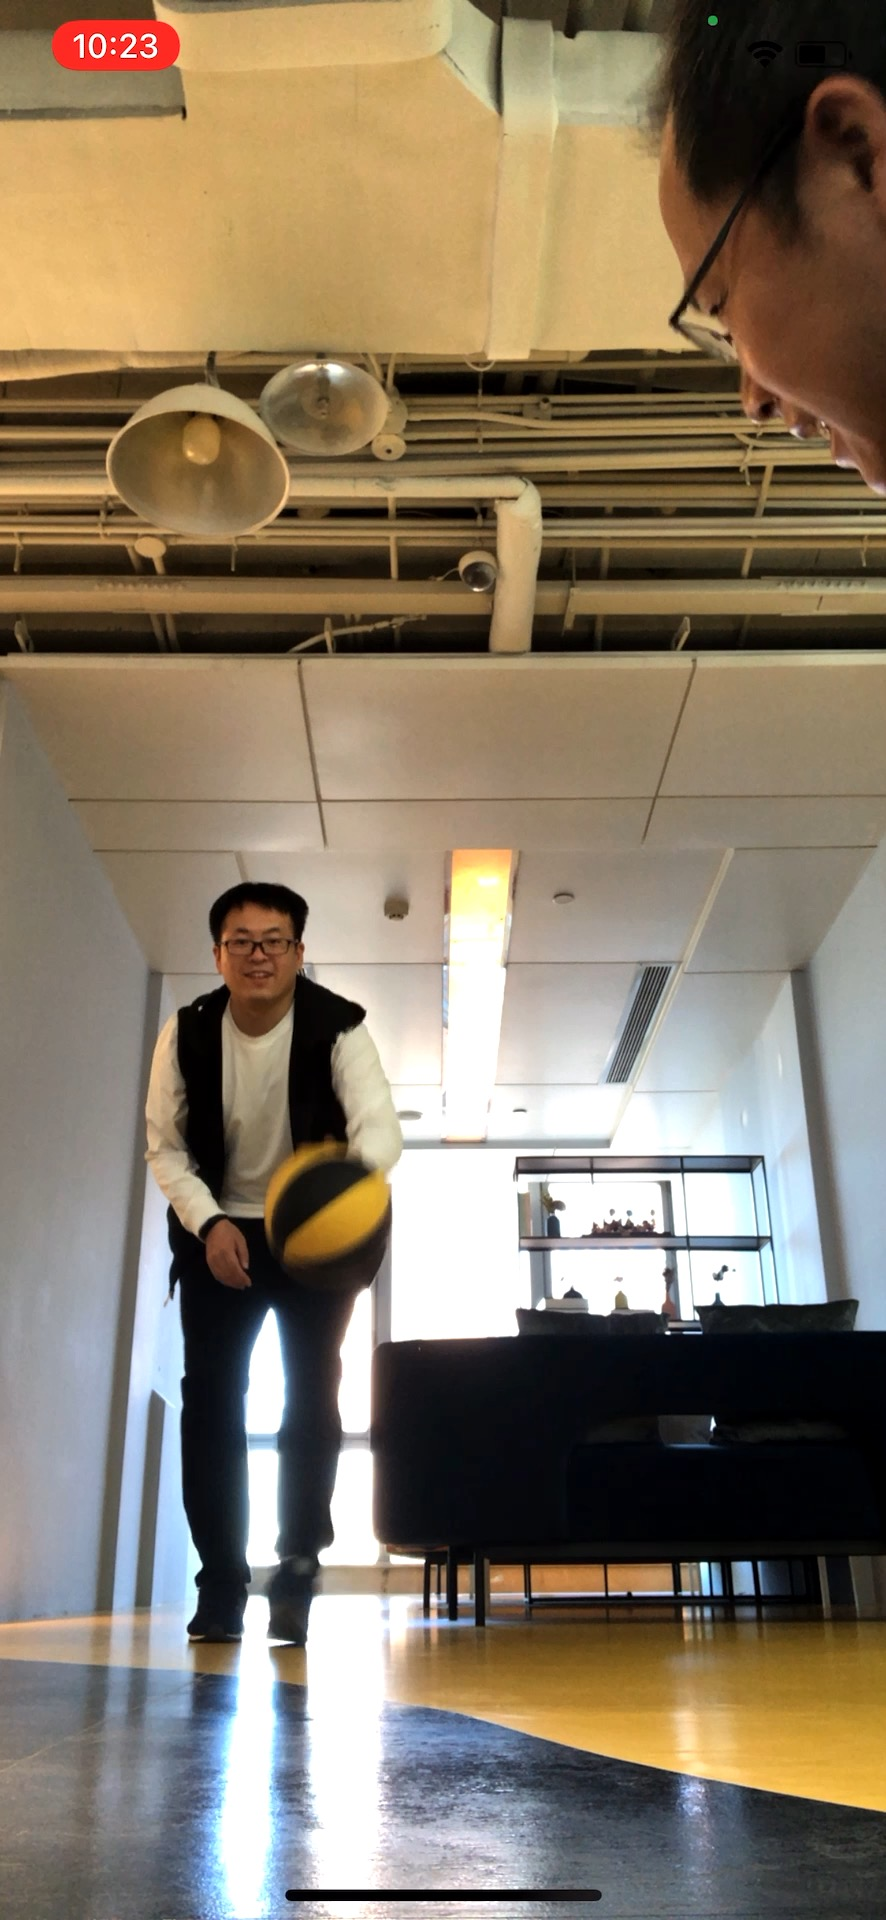ball: (266, 1139, 396, 1284)
